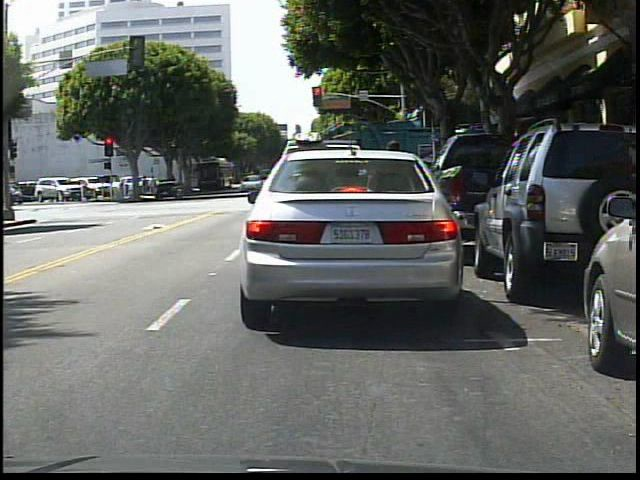person: (377, 139, 416, 265)
